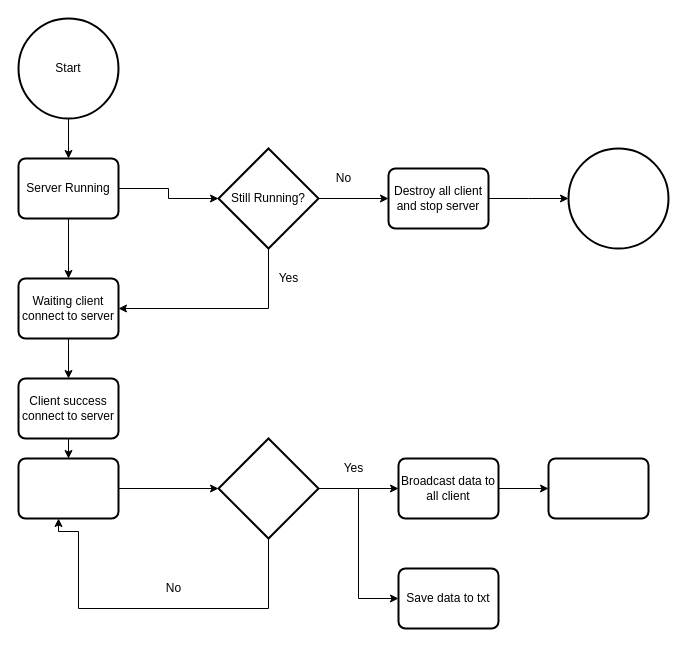
The diagram is 686 pixels wide and 646 high, and some of its shapes have lost their labels. The shapes that lost their labels are listed below. From the top down, each one's box as (x1, y1, x2, y2) in pixels, then its label:
(567, 147, 669, 249): Stop
(17, 457, 119, 519): Client send data to server
(217, 437, 319, 539): Data Received?
(547, 457, 649, 519): print data to all client
